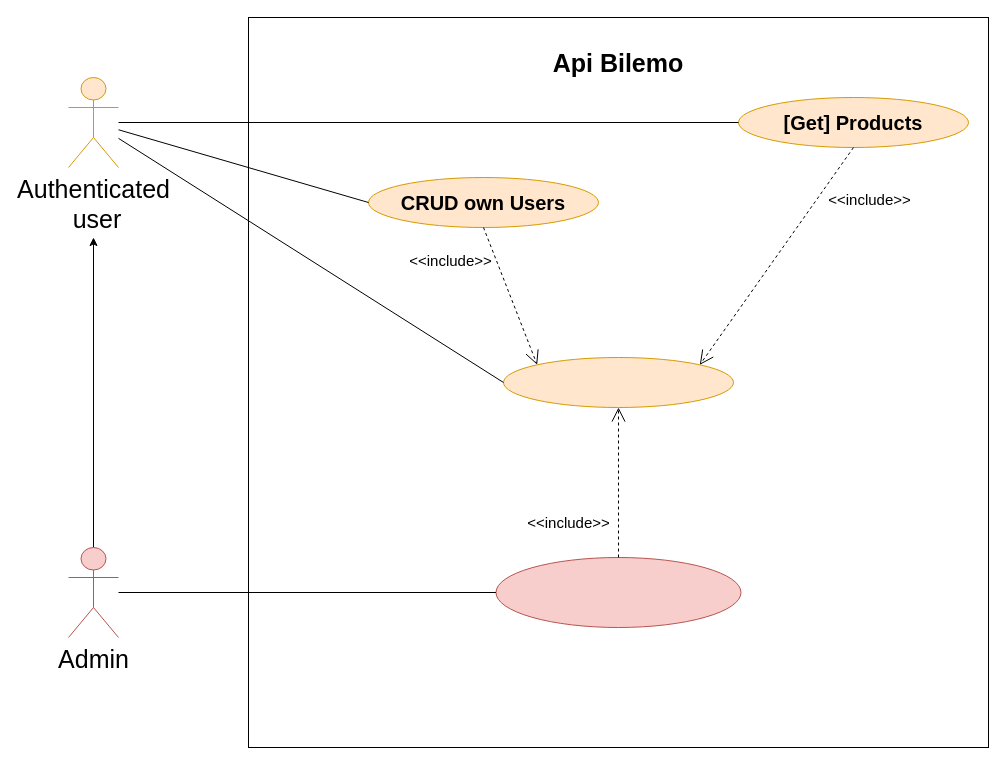
Image size: 1006x765. Some labels were removed from this diagram. Each missing label, with the centre of its shape:
Api Key: (x=618, y=382)
CRUD all Product/Client/User: (x=618, y=592)
